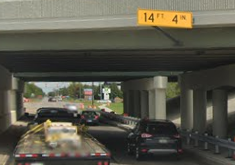1: (142, 11, 147, 24)
4: (146, 11, 155, 25), (169, 13, 179, 25)
overheadsign: (137, 9, 192, 29)
